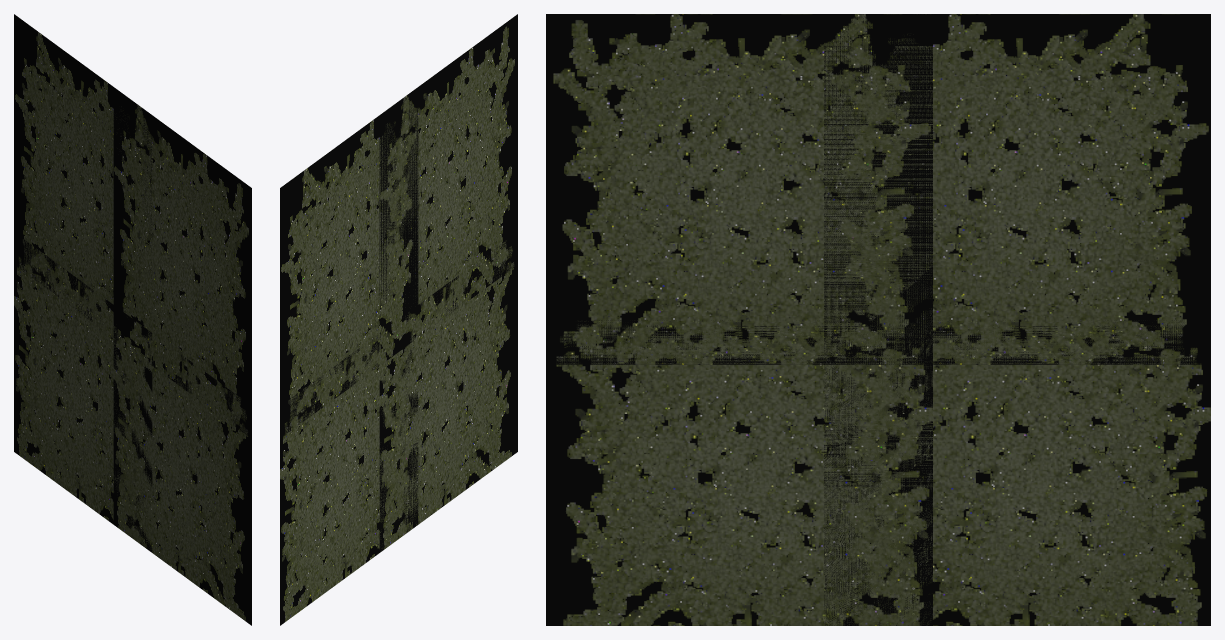
File: Enredaderas.obj
3 renders of one model, left to right at view 1: azimuth 30°, elevation 25°; view 2: azimuth 150°, elevation 25°; view 3: azimuth 270°, elevation 25°, orthographic. The views are drawn at different scales.
Visible parts, largest first — view 1: Plane, Plane.001, Plane.003, Plane.002; view 2: Plane.002, Plane, Plane.001, Plane.003; view 3: Plane, Plane.002, Plane.001, Plane.003.
Part boxes in pixels (x1,y1,x2,y2): Plane: (113, 87, 251, 438); Plane.001: (113, 305, 251, 625); Plane.003: (14, 232, 152, 552); Plane.002: (14, 14, 152, 329); Plane.002: (280, 87, 418, 438); Plane: (379, 14, 517, 318); Plane.001: (379, 232, 517, 552); Plane.003: (280, 305, 418, 625); Plane: (546, 14, 932, 364); Plane.002: (824, 14, 1210, 364); Plane.001: (546, 320, 932, 625); Plane.003: (824, 320, 1210, 625).
Bounding box in the file's own units: 0 × 3.49 × 3.44.
Materials: 1 (1 with a texture image).
